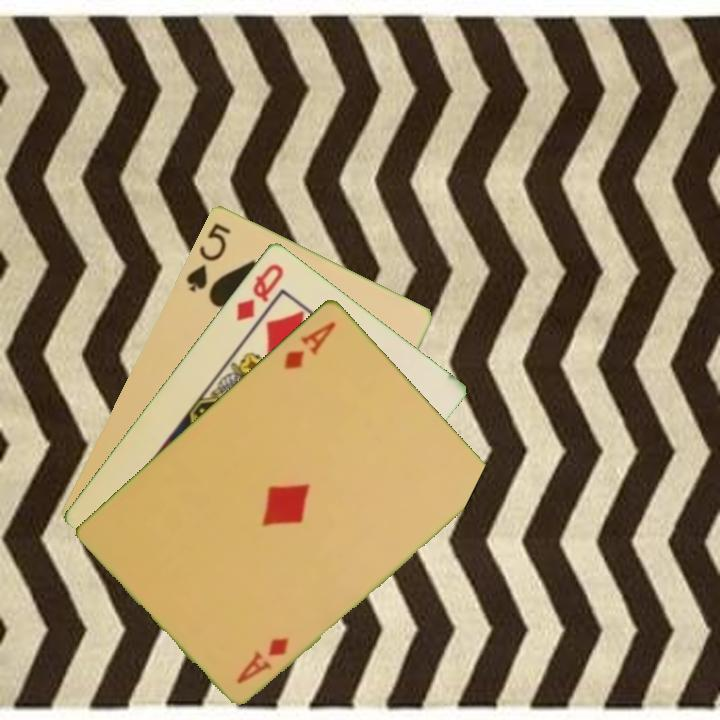5s: (182, 218, 234, 295)
Ad: (280, 317, 339, 372), (233, 633, 292, 687)
Qd: (232, 259, 287, 324)
